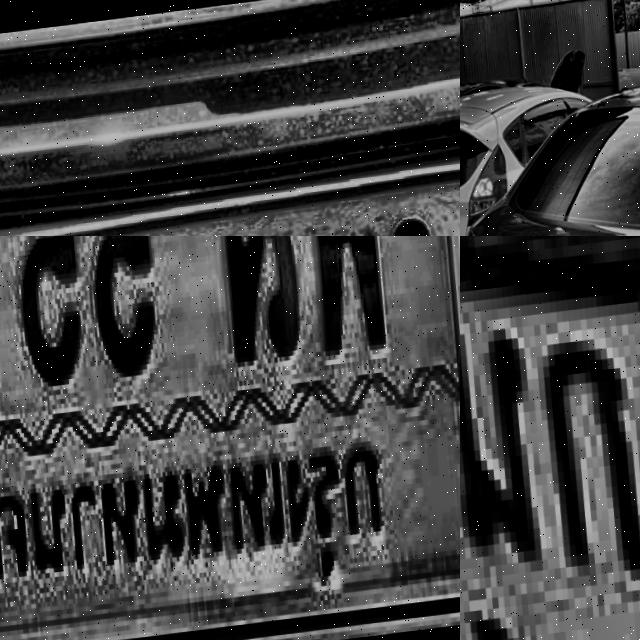license-plate: (0, 236, 460, 640), (460, 236, 640, 640), (0, 141, 460, 236)
